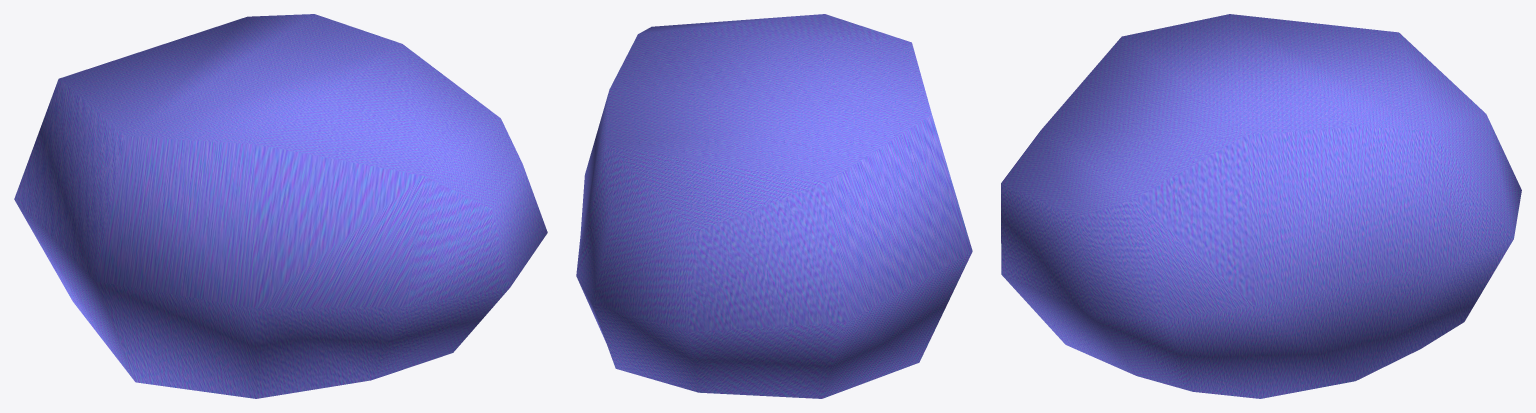
The model's file is pebble-big.fbx.
3 views of the same model, side by side, from view 1: azimuth 30°, elevation 25°; view 2: azimuth 150°, elevation 25°; view 3: azimuth 270°, elevation 25° (orthographic).
Parts seen in each view (by area): view 1: pebble_big; view 2: pebble_big; view 3: pebble_big.
Part boxes in pixels (box(x1,y1,x2,y2)): pebble_big: box(14, 14, 547, 398); pebble_big: box(576, 14, 972, 398); pebble_big: box(1001, 14, 1521, 398).
Size of the model in its own units: 3.71 by 2.37 by 4.25.
Materials: 1 (1 with a texture image).
